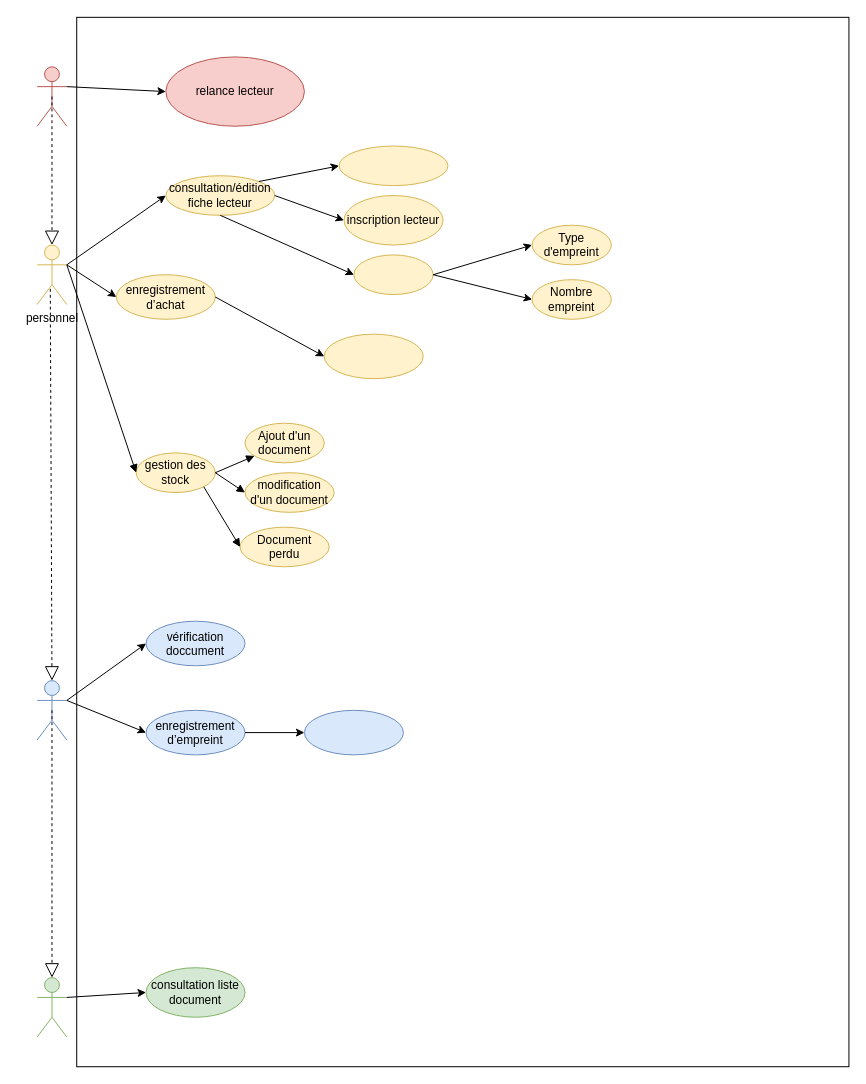
The diagram is 866 pixels wide and 1084 high, and some of its shapes have lost their labels. The centre of each missing label's shape, as x and y in pixels:
"bibliothécaire" belongs at (x=51, y=96).
"bénévol" belongs at (x=51, y=710).
"Déménagement du lecteur" belongs at (x=393, y=165).
"Empreint d'un lecteur" belongs at (x=393, y=274).
"génération fiche d'achat" belongs at (x=373, y=356).
"génération fiche empreint" belongs at (x=353, y=732).
"usager" belongs at (x=51, y=1007).
